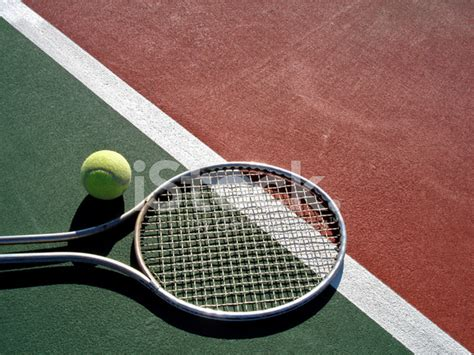tennis_ball: (81, 149, 132, 199)
